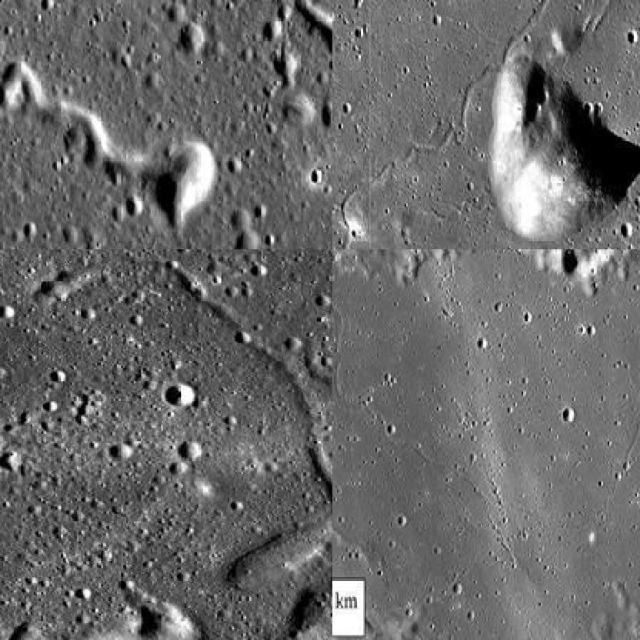rille: (32, 256, 331, 638), (332, 249, 638, 531), (332, 0, 638, 248), (0, 0, 217, 223)
